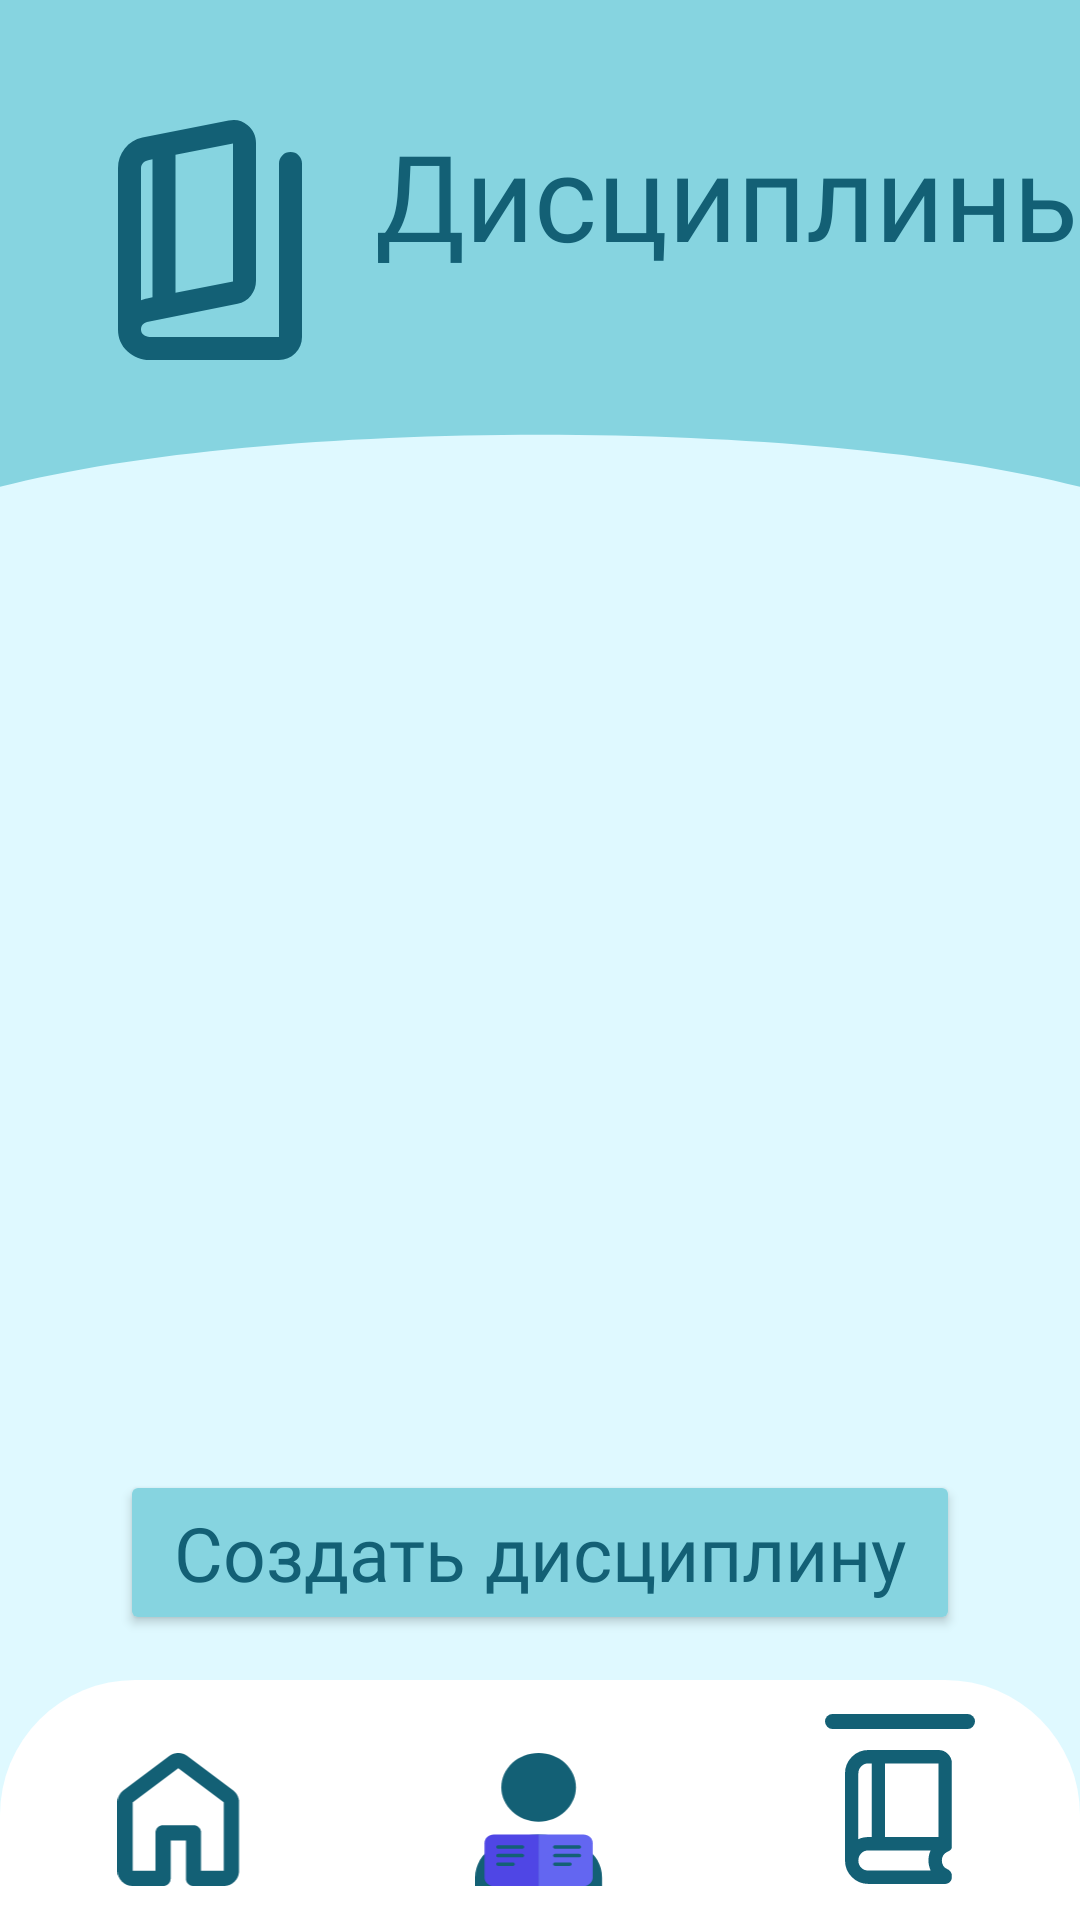

Icon click points for this 1080 x 1920 phone screenshot, format [x,y]:
avaterbook: [539,1819]
book: [898,1817]
home: [178,1819]
openbook: [210,240]
